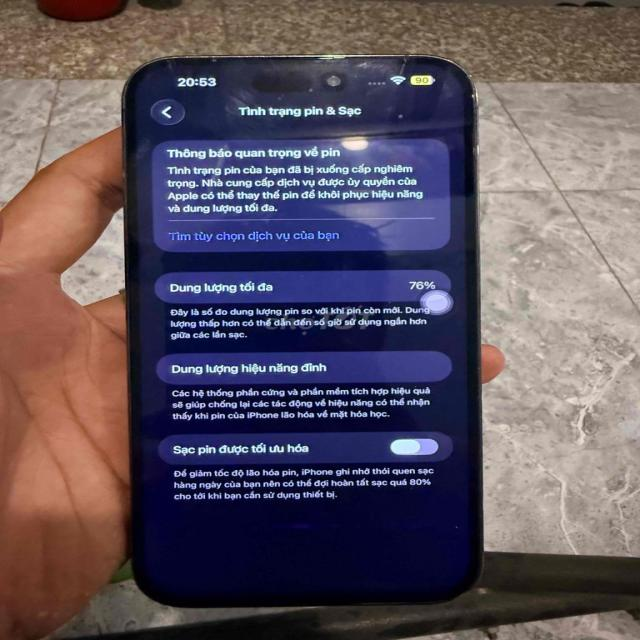gen_14: (96, 43, 523, 612)
